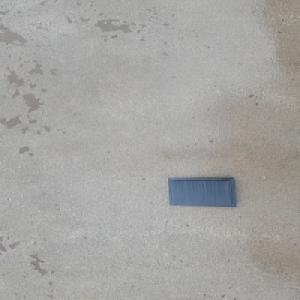PlasticPart: (167, 177, 237, 207)
